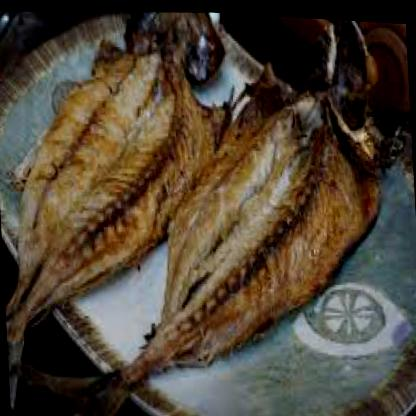grilled mackerel: (166, 79, 379, 351), (7, 29, 194, 293)
